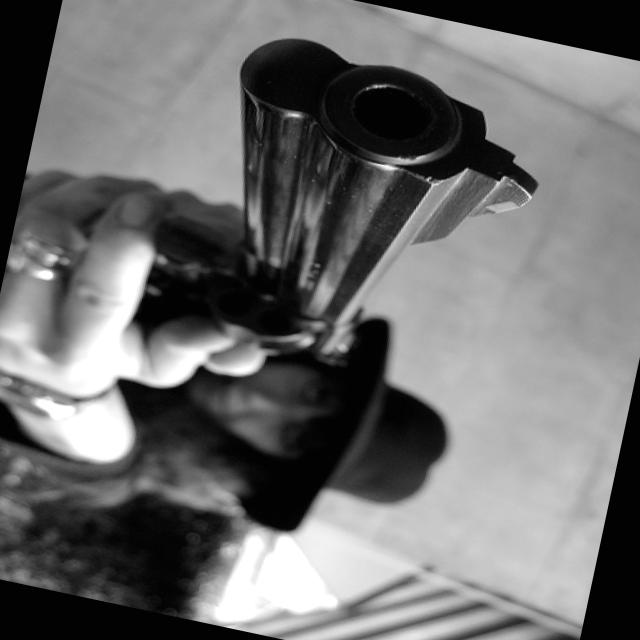handgun: (128, 13, 572, 410)
